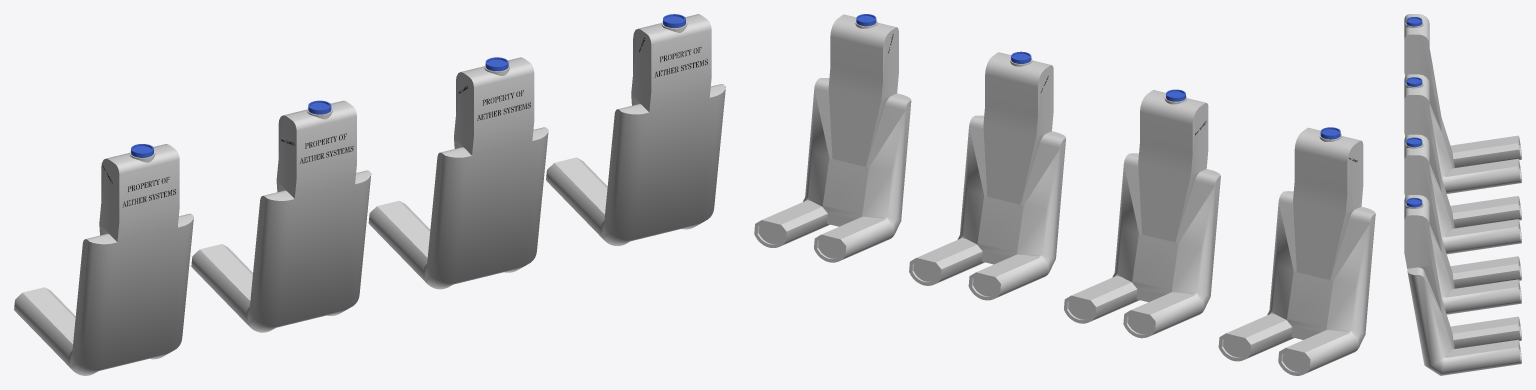
Rendered from Dummy.dae.
The picture shows the model from 3 angles, left to right: view 1: azimuth 30°, elevation 25°; view 2: azimuth 150°, elevation 25°; view 3: azimuth 270°, elevation 25°; orthographic projection. The views are drawn at different scales.
Visible parts, largest first — view 1: Component_4, Component_5, Component_9, Component_2; view 2: Component_9, Component_4, Component_2, Component_5; view 3: Component_2, Component_4, Component_9, Component_5.
Boxes of the visible parts, box(x1,y1,x2,y2) form: Component_4: box(368, 57, 548, 289); Component_5: box(191, 100, 371, 332); Component_9: box(14, 144, 193, 375); Component_2: box(546, 14, 725, 246); Component_9: box(1218, 127, 1375, 375); Component_4: box(909, 52, 1065, 300); Component_2: box(754, 14, 911, 262); Component_5: box(1064, 90, 1220, 338); Component_2: box(1404, 195, 1521, 375); Component_4: box(1404, 134, 1521, 314); Component_9: box(1404, 14, 1521, 193); Component_5: box(1404, 74, 1521, 254).
Bounding box in the file's own units: 90.55 × 20.85 × 31.55.
